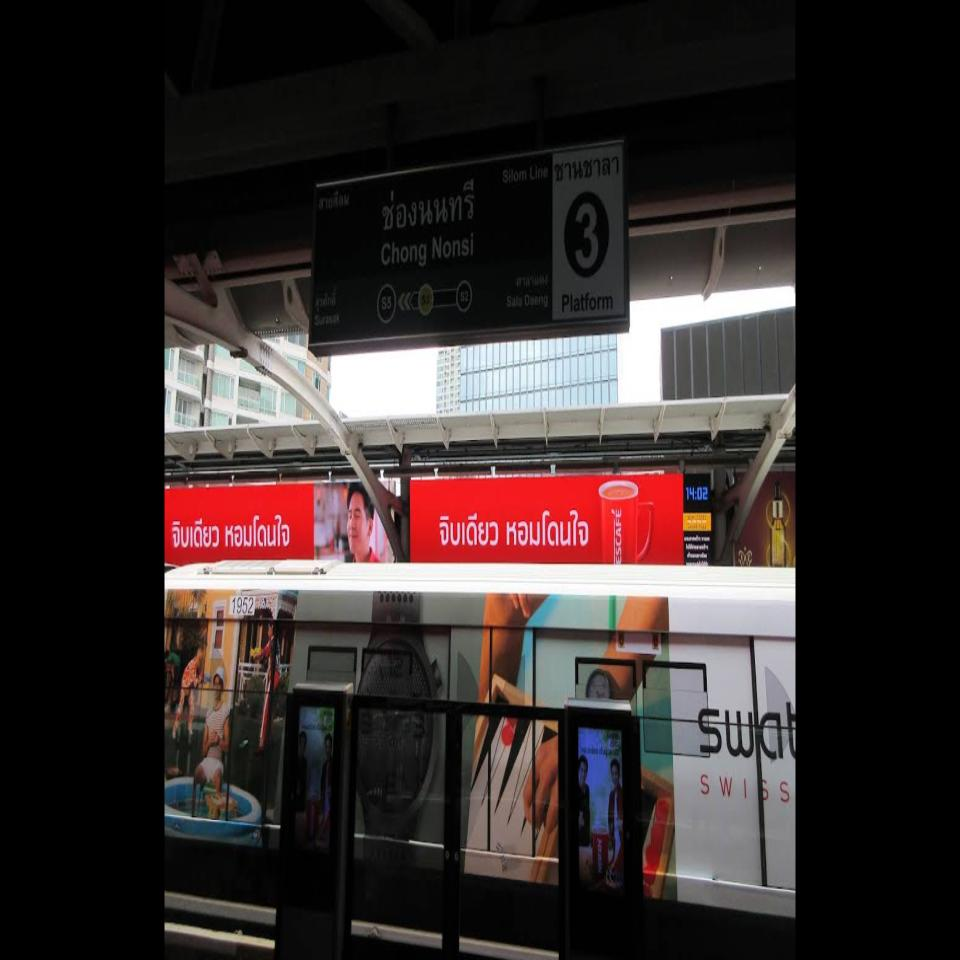signage: (376, 156, 477, 342)
